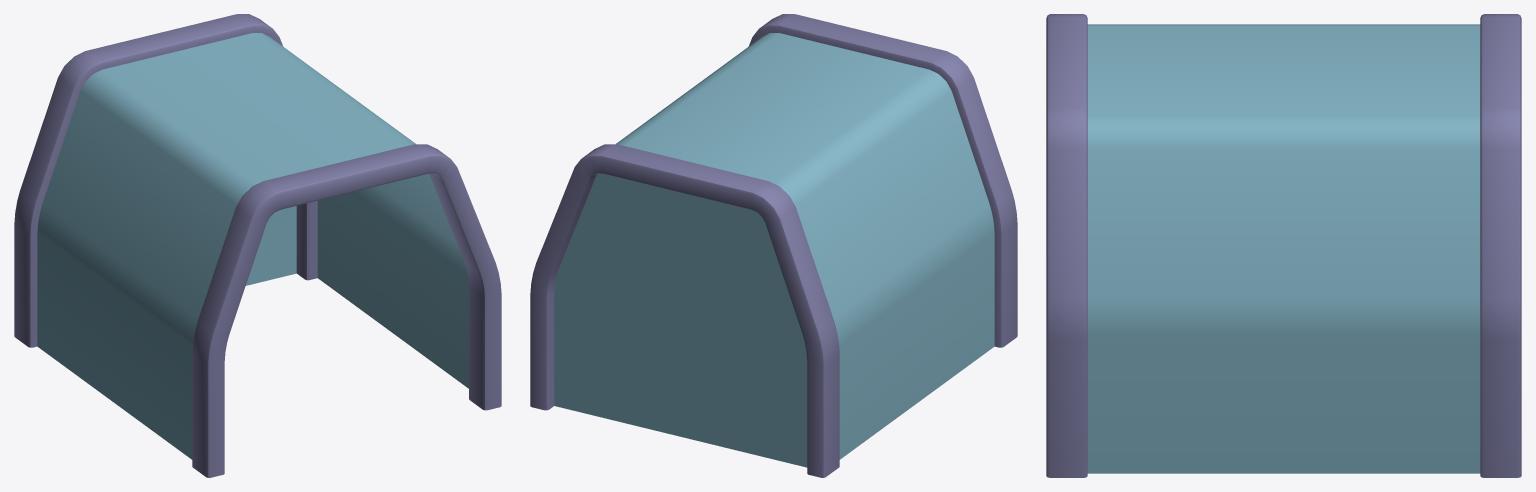
File: cabin.fbx
3 renders of one model, left to right at view 1: azimuth 30°, elevation 25°; view 2: azimuth 150°, elevation 25°; view 3: azimuth 270°, elevation 25°, orthographic. The views are drawn at different scales.
Parts seen in each view (by area): view 1: Plane.002; view 2: Plane.002; view 3: Plane.002.
Boxes of the visible parts, x1=… form: Plane.002: x1=14, y1=14, x2=501, y2=477; Plane.002: x1=530, y1=14, x2=1017, y2=477; Plane.002: x1=1046, y1=14, x2=1521, y2=477.
Bounding box in the file's own units: 2.73 × 2.38 × 3.12.
